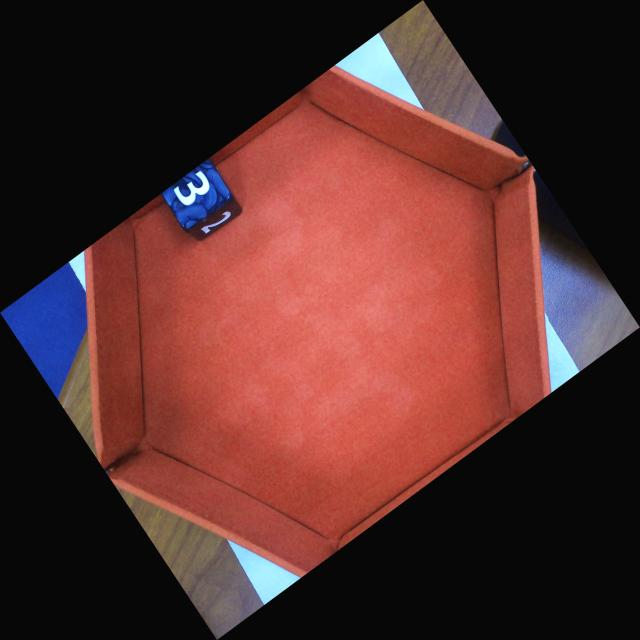dice: (163, 160, 233, 227)
